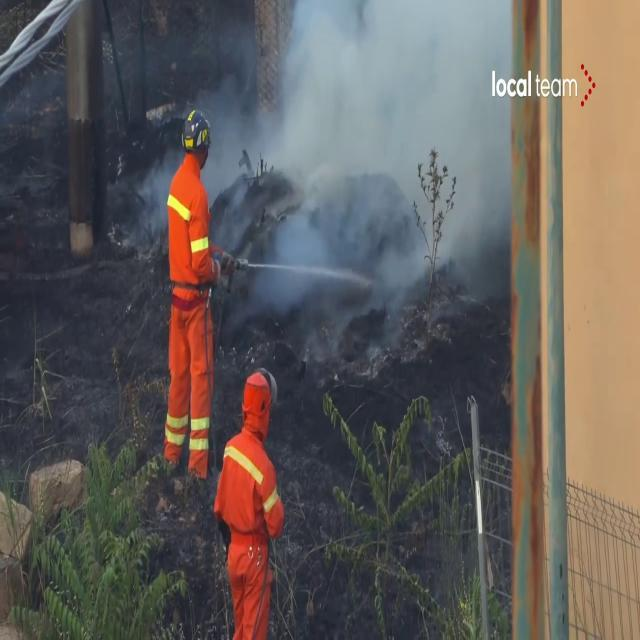Smoke: (222, 0, 512, 319), (564, 2, 640, 613), (216, 364, 288, 635)
